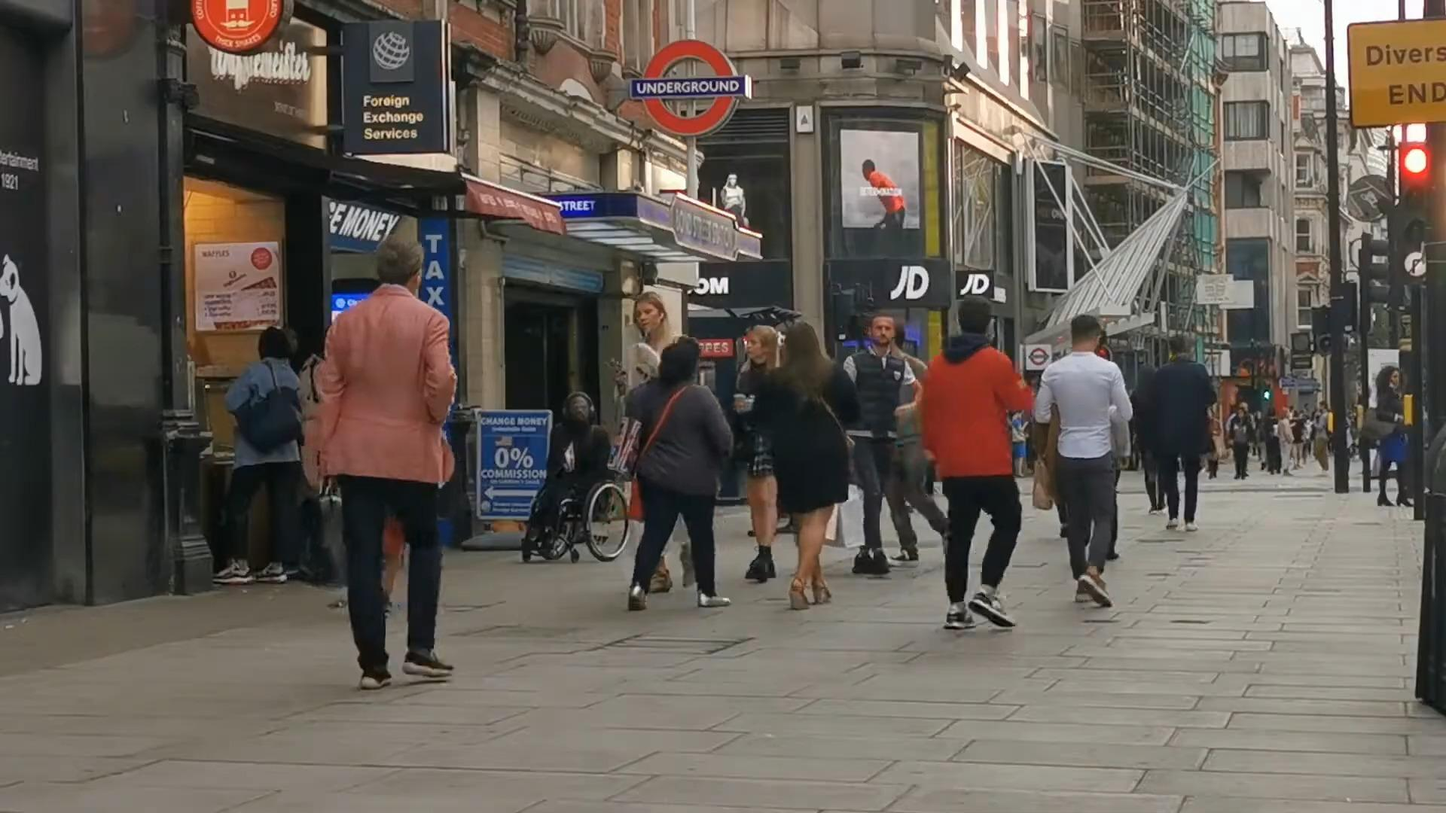no-helmet: (375, 235, 424, 294), (780, 321, 829, 371), (657, 336, 703, 384), (633, 291, 670, 336), (746, 325, 780, 372), (958, 294, 991, 334), (1070, 314, 1102, 352), (562, 391, 595, 424), (868, 312, 895, 348), (1376, 365, 1399, 389)
